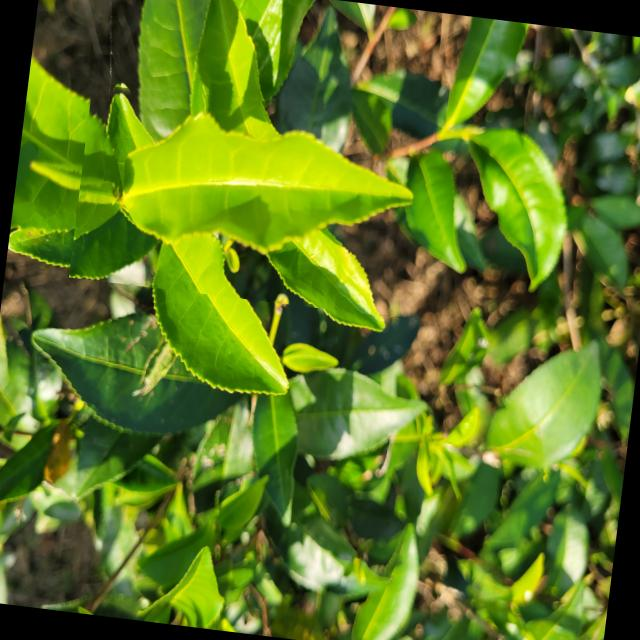Category B(2-4 days): (67, 73, 451, 321)
